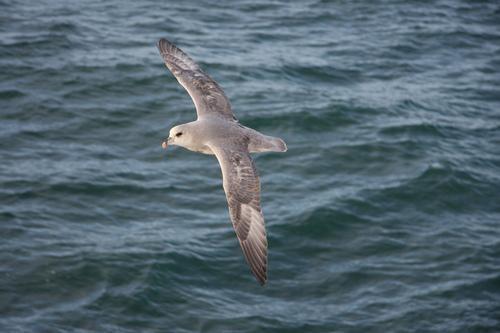bird: (149, 38, 288, 286)
